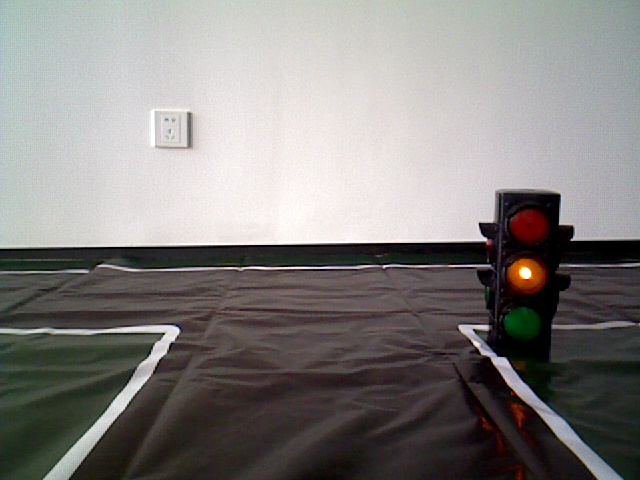yellow: (490, 196, 558, 352)
